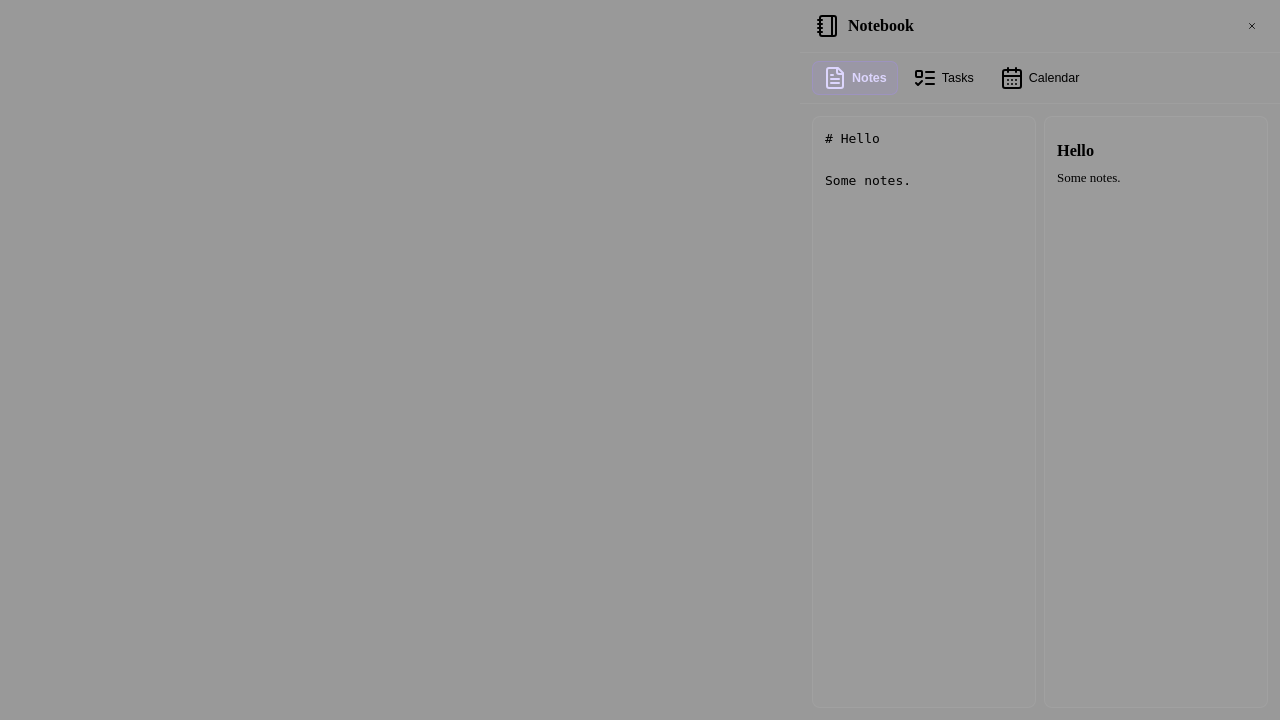
Test: <NotebookPanel> › 2. initial tab is Notes; switching to Tasks shows task list
Expected: the text box named "markdown notes editor" is shown, [812,116,1036,708]
Switch to Tasks
Step 1. Click the tab "Tasks" → (943, 78), box [902,61,985,95]
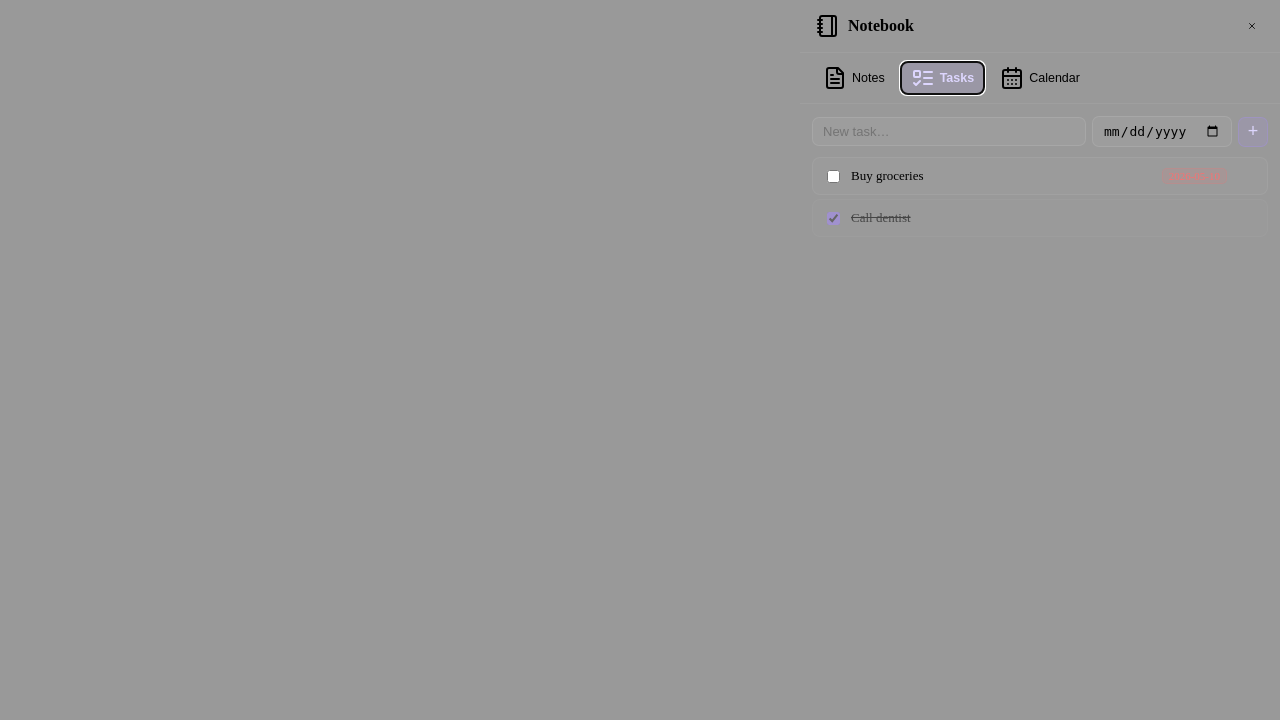
Expected: the text "Buy groceries" is shown, [851,168,924,183]
Expected: the text "Call dentist" is shown, [851,210,911,225]
